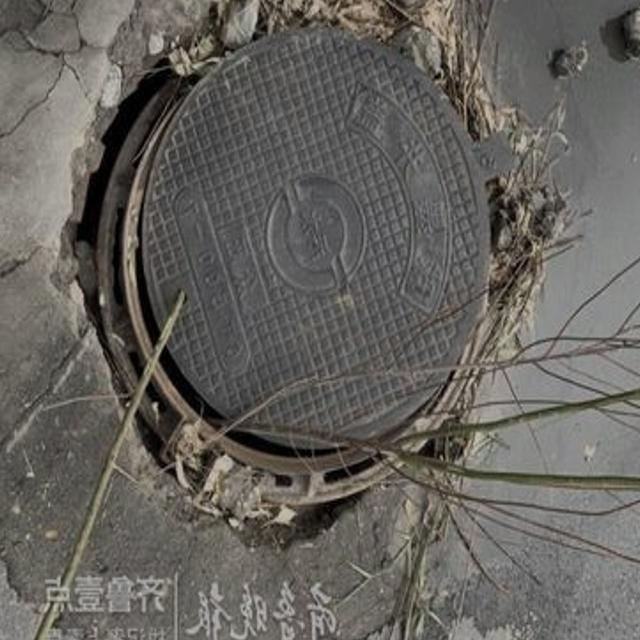circle: (0, 0, 585, 640)
